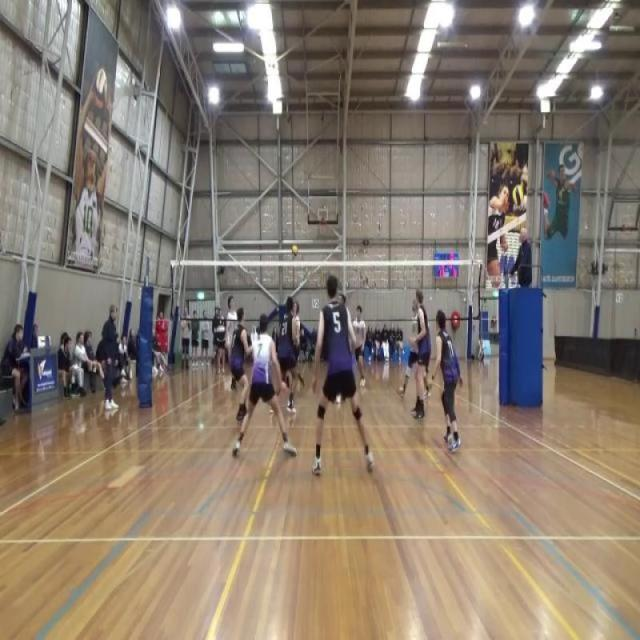volleyball: (94, 68, 109, 110), (511, 184, 525, 208), (291, 244, 299, 258)
